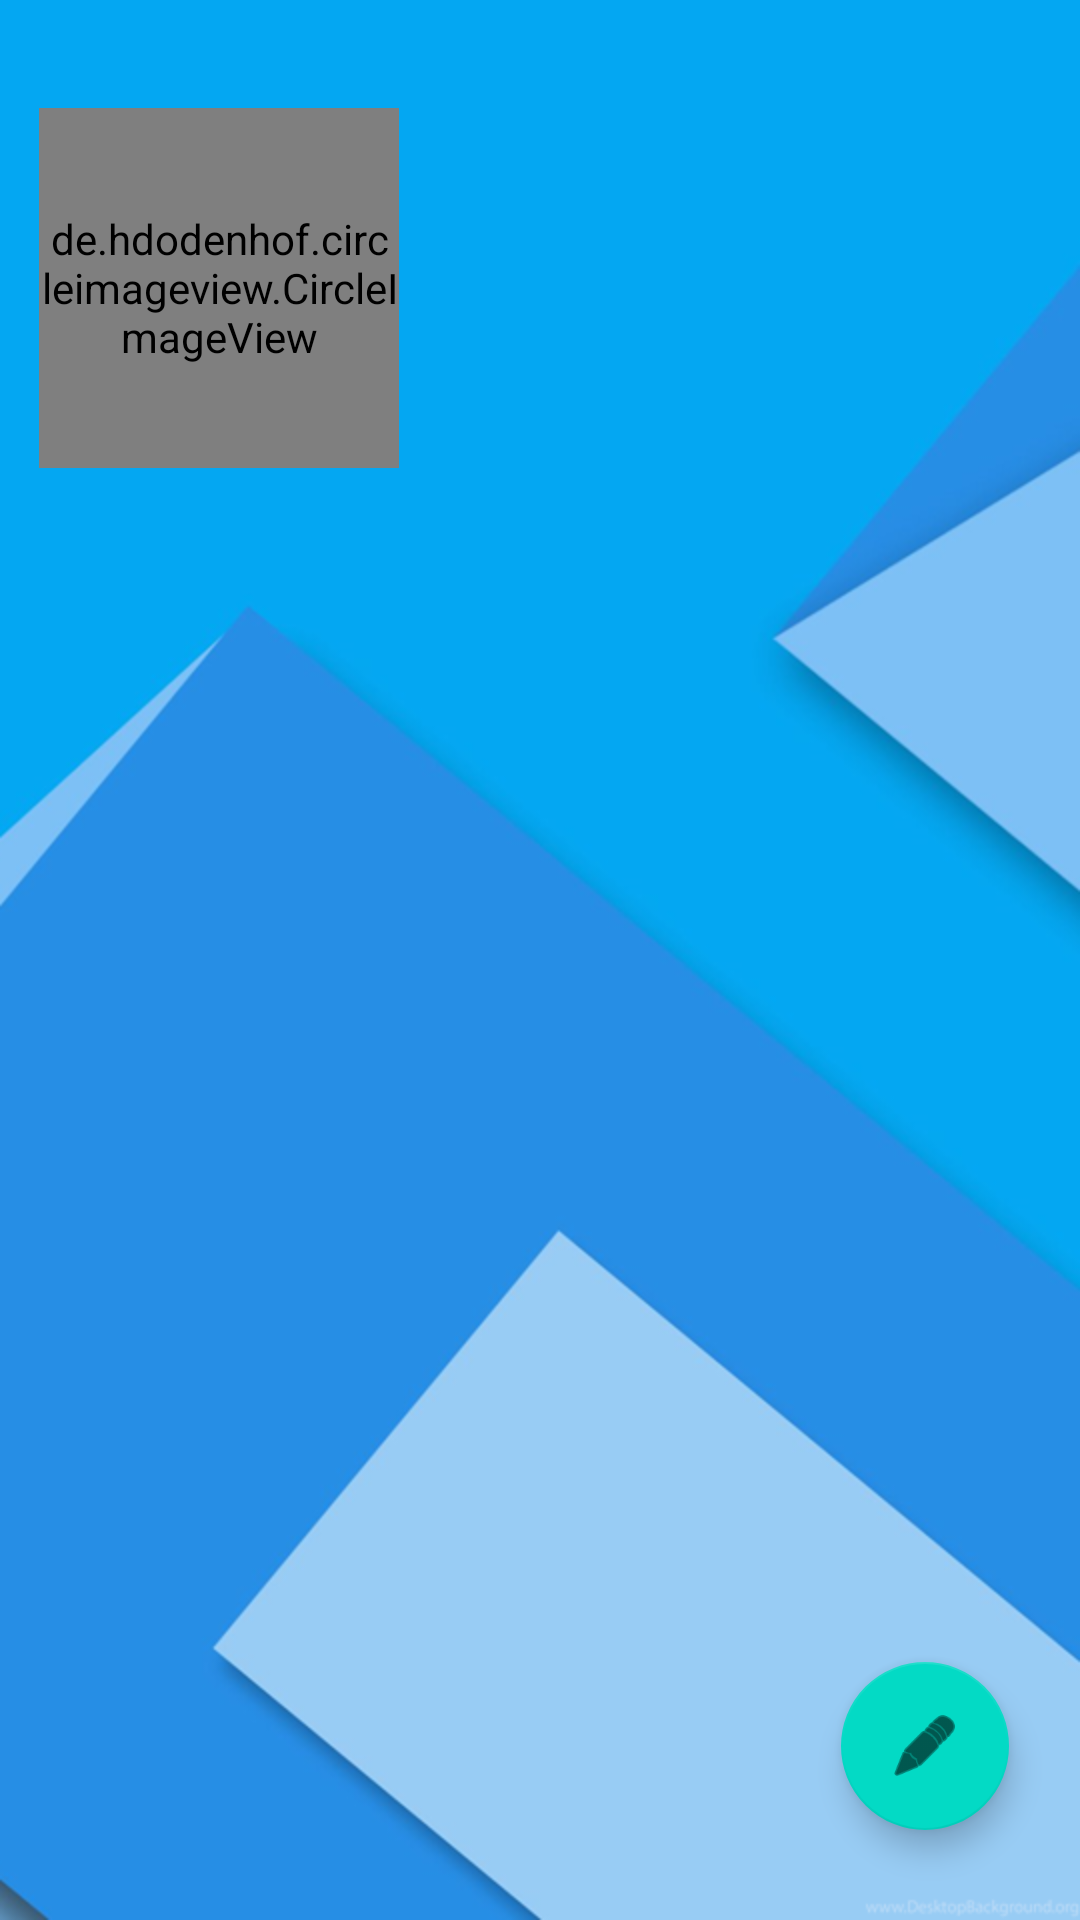

Point at icon controls on the screen. Image size 1080w x 1920h, points as (x=x, y=y).
edit: (x=925, y=1746)
